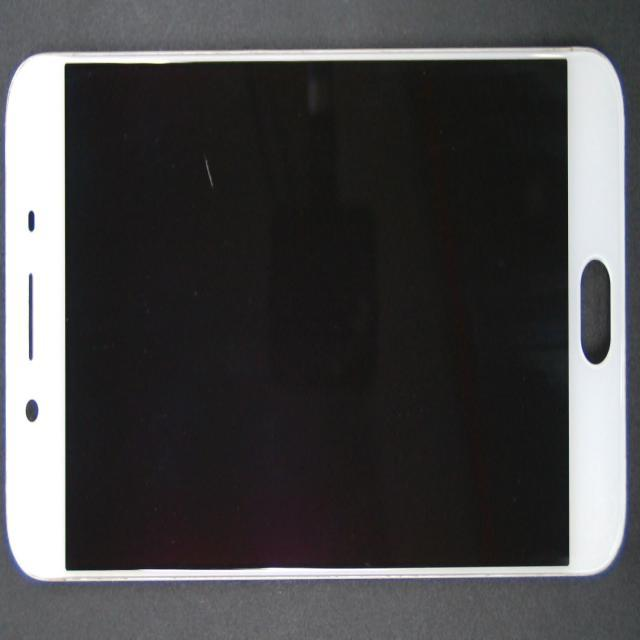scratch: (195, 146, 223, 198)
